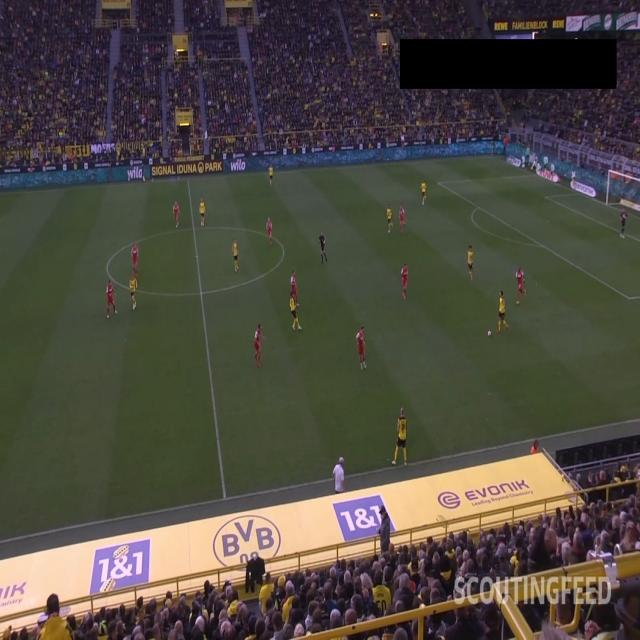ball: (485, 326, 494, 339)
f_player: (287, 268, 301, 332), (396, 410, 409, 470), (126, 272, 140, 312), (496, 291, 508, 335), (357, 328, 369, 371), (252, 324, 263, 368), (106, 278, 118, 317), (618, 206, 630, 242), (465, 244, 476, 283), (131, 243, 143, 277), (515, 267, 526, 302), (231, 238, 241, 274), (400, 264, 410, 299), (171, 199, 180, 227), (266, 217, 274, 245), (399, 207, 407, 234), (420, 182, 428, 208), (199, 199, 206, 226), (386, 207, 392, 234), (268, 164, 275, 187)
umpire: (317, 232, 327, 264)
